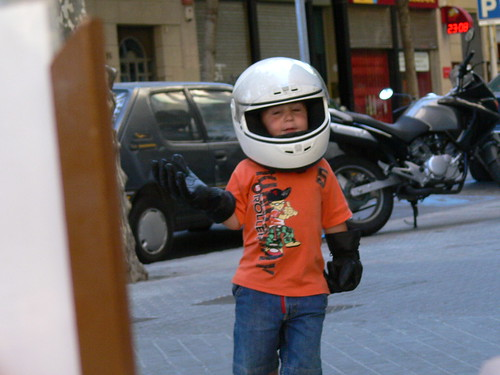helmet: (210, 50, 338, 103)
